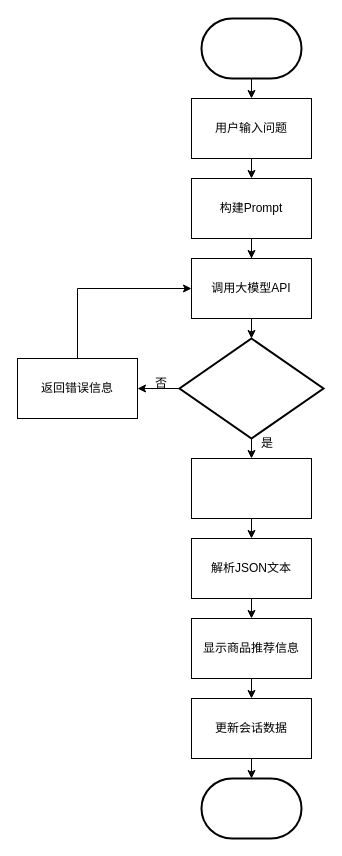
The diagram is 342 pixels wide and 856 high, and some of its shapes have lost their labels. Here are the shapes that lost their labels. From the top down, the centre of each, then its label:
At point (251, 48): "开始".
At point (251, 388): "返回成功？".
At point (251, 488): "接收流式响应".
At point (251, 808): "结束".
